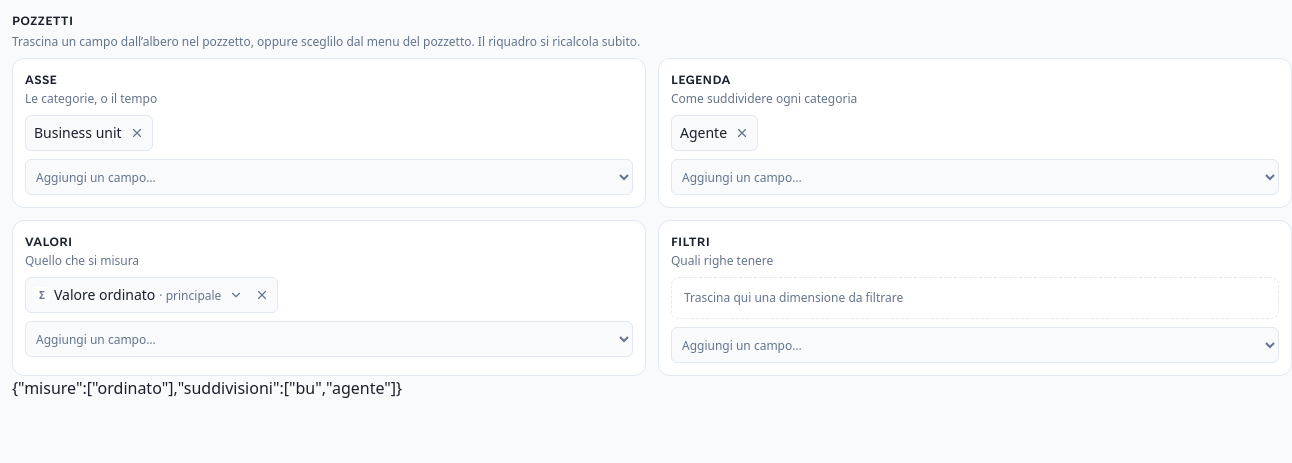
Pozzetti: togliere e riordinare › togliere l'asse fa scalare la legenda e lo dice
Click the button named "Togli Business unit dall'asse" at (137, 133), box [126,122,148,144]
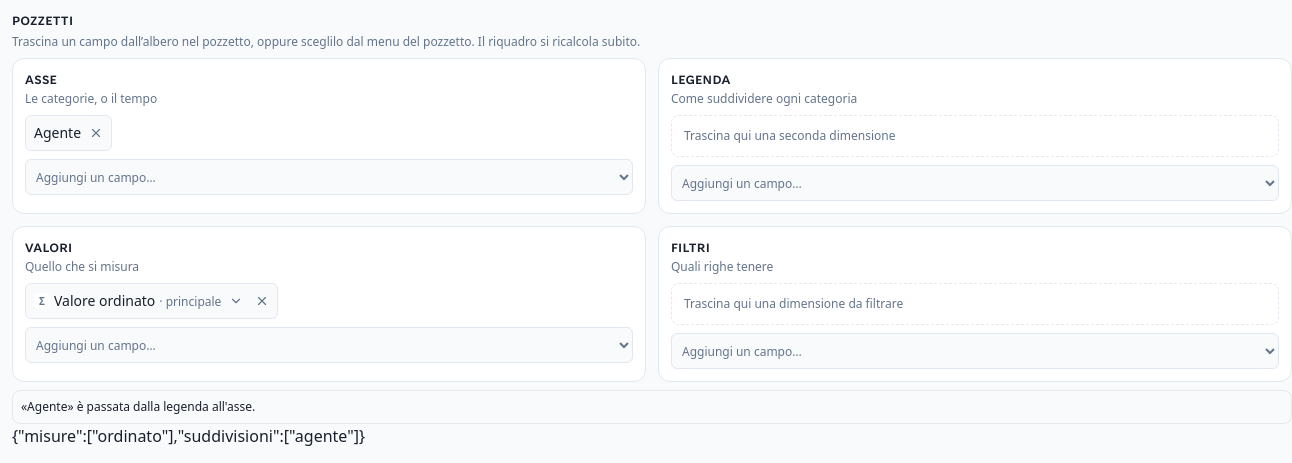
Expected: the message reads "«Agente» è passata dalla legenda all'asse.", [21,398,255,415]
